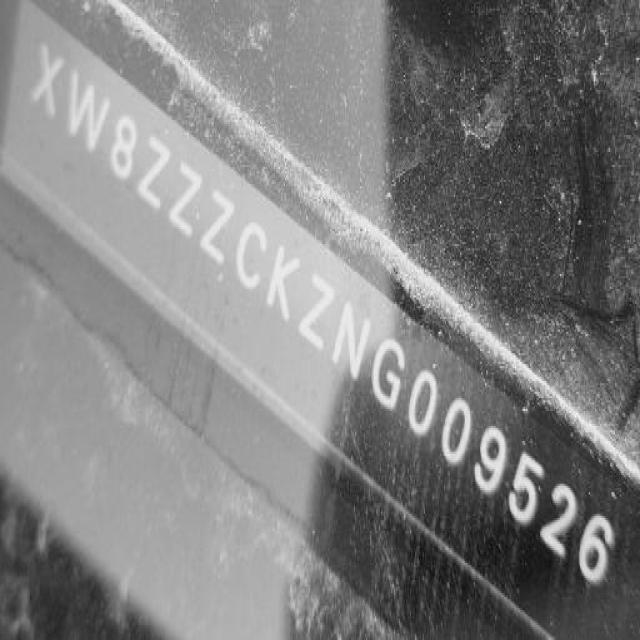0: (406, 359, 438, 443), (443, 392, 471, 471)
2: (540, 478, 578, 558)
6: (577, 514, 616, 590)
8: (110, 117, 137, 186)
9: (474, 420, 506, 502), (509, 451, 542, 528)
C: (234, 218, 268, 286)
G: (371, 338, 407, 410)
K: (262, 241, 300, 320)
N: (330, 303, 370, 384)
W: (66, 73, 110, 154)
X: (29, 36, 64, 121)
Z: (200, 186, 234, 266), (303, 272, 334, 357), (135, 140, 172, 207), (170, 162, 203, 237)
